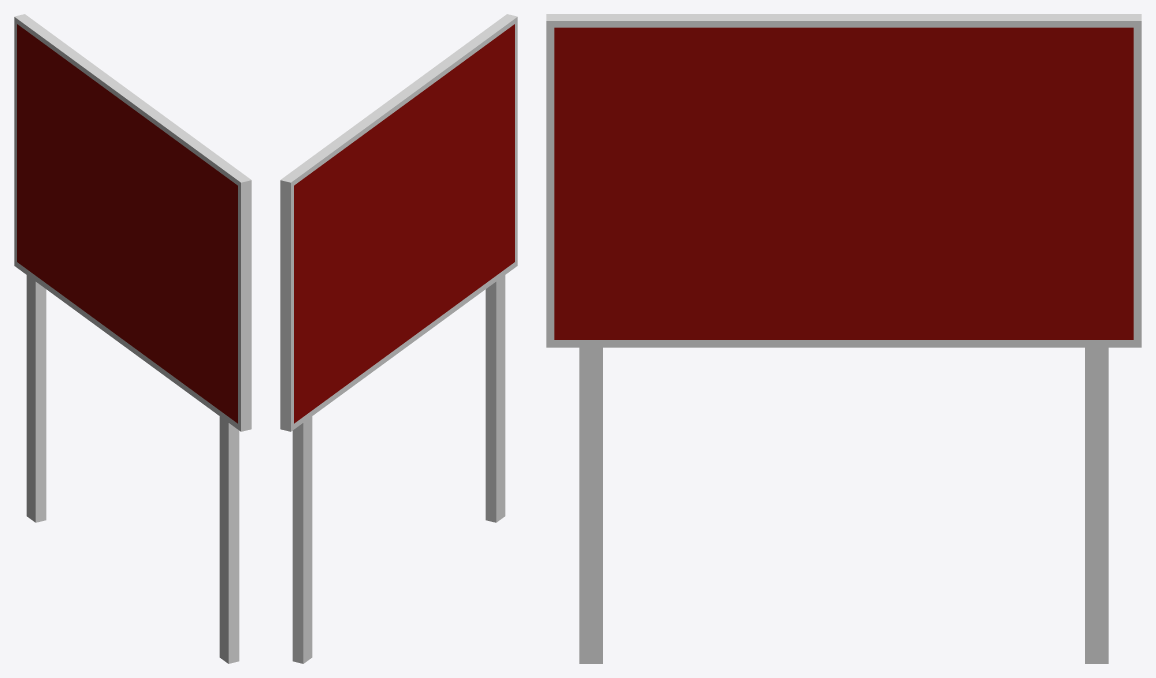
File: billboard.fbx
3 views of the same model, side by side, from view 1: azimuth 30°, elevation 25°; view 2: azimuth 150°, elevation 25°; view 3: azimuth 270°, elevation 25° (orthographic). The views are drawn at different scales.
Parts seen in each view (by area): view 1: Cube; view 2: Cube; view 3: Cube.
Boxes of the visible parts, x1,y1,x2,y2 form: Cube: (14, 14, 251, 663); Cube: (280, 14, 517, 663); Cube: (546, 14, 1141, 663).
Size of the model in its own units: 27.5 by 1203 by 1009.
